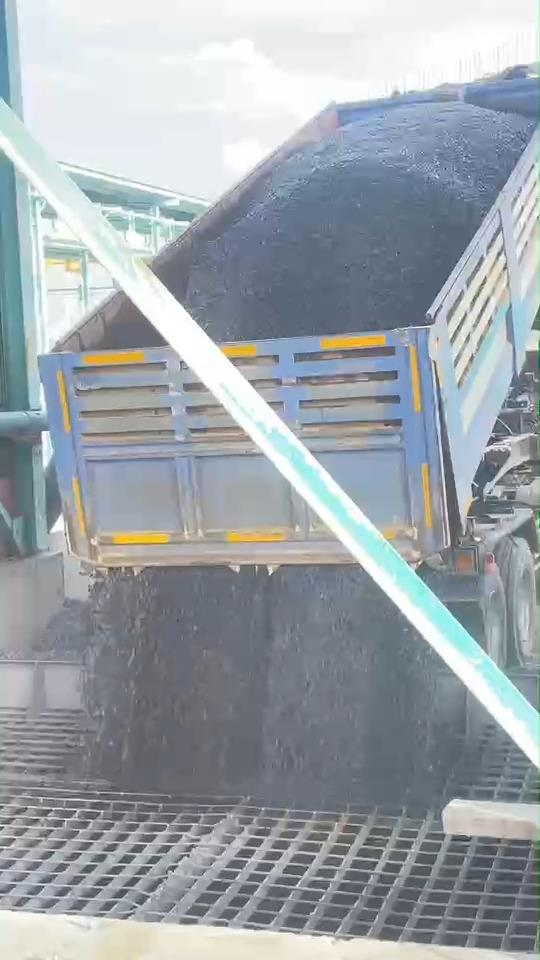gravel: (88, 567, 459, 807), (185, 103, 533, 340), (186, 102, 533, 339), (28, 598, 90, 660), (0, 640, 25, 659)
